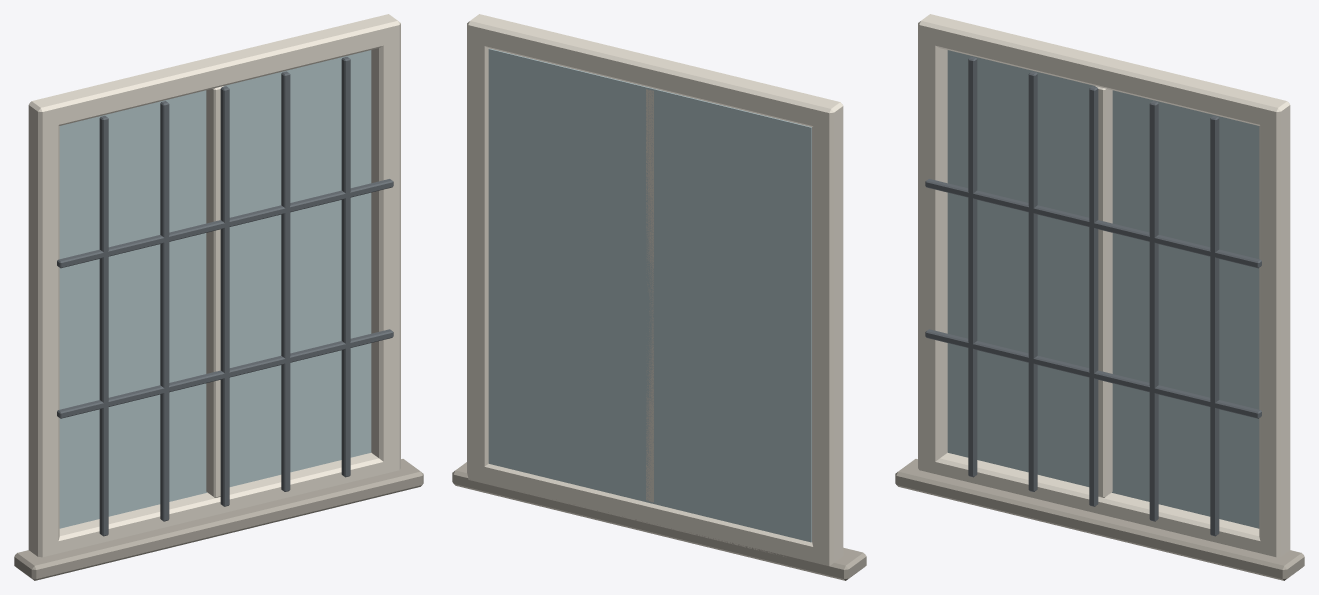
Rendered from window_grille_panel.glb.
The picture shows the model from 3 angles, left to right: view 1: azimuth 30°, elevation 25°; view 2: azimuth 150°, elevation 25°; view 3: azimuth 330°, elevation 25°; orthographic projection.
Visible parts, largest first — view 1: window_grille_panel; view 2: window_grille_panel; view 3: window_grille_panel.
Part boxes in pixels (box(x1,y1,x2,y2)): window_grille_panel: box(14, 14, 423, 580); window_grille_panel: box(452, 14, 866, 580); window_grille_panel: box(895, 14, 1304, 580).
Size of the model in its own units: 1.08 by 1.22 by 0.1.
